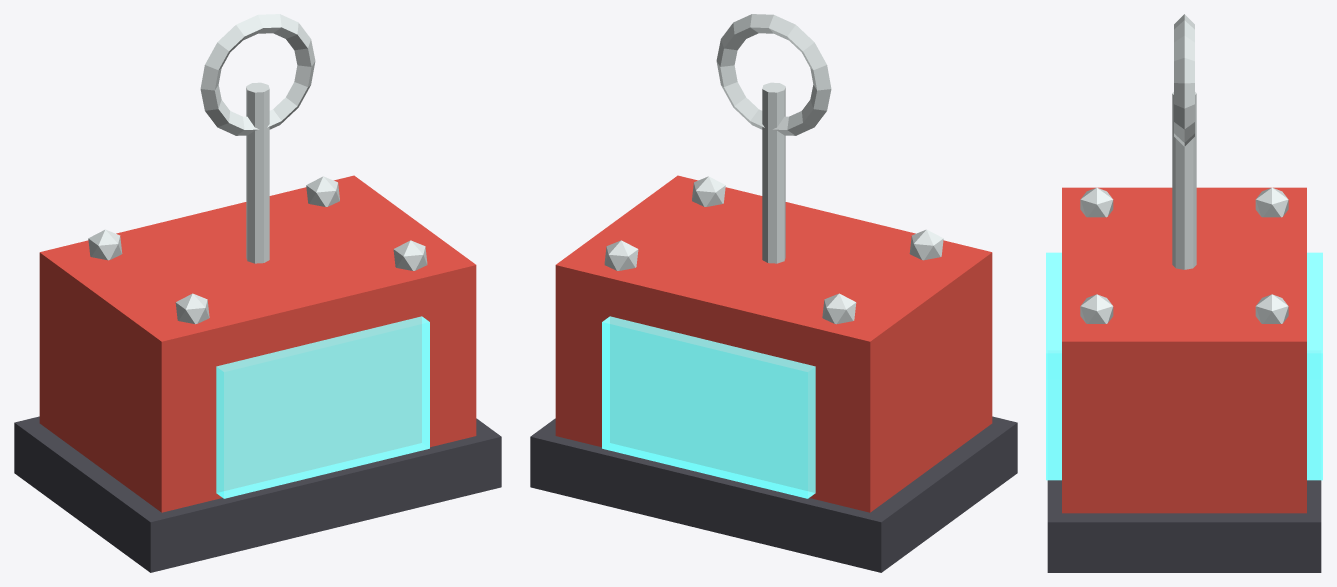
File: cable-car.glb
3 views of the same model, side by side, from view 1: azimuth 30°, elevation 25°; view 2: azimuth 150°, elevation 25°; view 3: azimuth 270°, elevation 25° (orthographic).
Visible parts, largest first — view 1: CableCar_Base, CableCar_Bottom, CableCar_Window_Front, CableCar_Ring, CableCar_RingStem, CableCar_Bolt_0, CableCar_Bolt_2, CableCar_Bolt_1, CableCar_Bolt_3; view 2: CableCar_Base, CableCar_Bottom, CableCar_Window_Back, CableCar_Ring, CableCar_RingStem, CableCar_Bolt_2, CableCar_Bolt_0, CableCar_Bolt_1, CableCar_Bolt_3; view 3: CableCar_Base, CableCar_Bottom, CableCar_Window_Back, CableCar_Window_Front, CableCar_RingStem, CableCar_Ring, CableCar_Bolt_0, CableCar_Bolt_2, CableCar_Bolt_1, CableCar_Bolt_3.
Boxes of the visible parts, left/top/right/bottom form: CableCar_Base: left=39, top=175, right=476, bottom=512; CableCar_Bottom: left=14, top=416, right=501, bottom=572; CableCar_Window_Front: left=216, top=316, right=429, bottom=498; CableCar_Ring: left=200, top=14, right=315, bottom=135; CableCar_RingStem: left=246, top=82, right=269, bottom=263; CableCar_Bolt_0: left=175, top=293, right=209, bottom=324; CableCar_Bolt_2: left=88, top=229, right=122, bottom=260; CableCar_Bolt_1: left=393, top=240, right=427, bottom=270; CableCar_Bolt_3: left=306, top=176, right=339, bottom=206; CableCar_Base: left=555, top=175, right=992, bottom=512; CableCar_Bottom: left=530, top=416, right=1017, bottom=572; CableCar_Window_Back: left=602, top=316, right=815, bottom=498; CableCar_Ring: left=716, top=14, right=831, bottom=135; CableCar_RingStem: left=762, top=82, right=785, bottom=263; CableCar_Bolt_2: left=822, top=293, right=856, bottom=324; CableCar_Bolt_0: left=909, top=229, right=943, bottom=260; CableCar_Bolt_1: left=692, top=176, right=725, bottom=206; CableCar_Bolt_3: left=604, top=240, right=638, bottom=270; CableCar_Base: left=1062, top=187, right=1306, bottom=513; CableCar_Bottom: left=1047, top=480, right=1321, bottom=572; CableCar_Window_Back: left=1307, top=252, right=1322, bottom=480; CableCar_Window_Front: left=1046, top=252, right=1061, bottom=480; CableCar_RingStem: left=1172, top=92, right=1196, bottom=269; CableCar_Ring: left=1174, top=14, right=1194, bottom=146; CableCar_Bolt_0: left=1080, top=187, right=1113, bottom=217; CableCar_Bolt_2: left=1255, top=187, right=1288, bottom=217; CableCar_Bolt_1: left=1080, top=294, right=1113, bottom=323; CableCar_Bolt_3: left=1255, top=294, right=1288, bottom=323.
Bounding box in the file's own units: 1.16 × 1.47 × 0.79.
